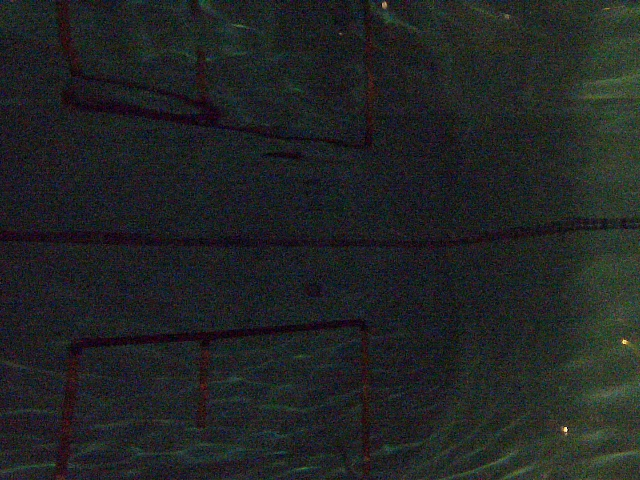Gate: (53, 344, 82, 480), (357, 327, 377, 480), (195, 342, 212, 430)
